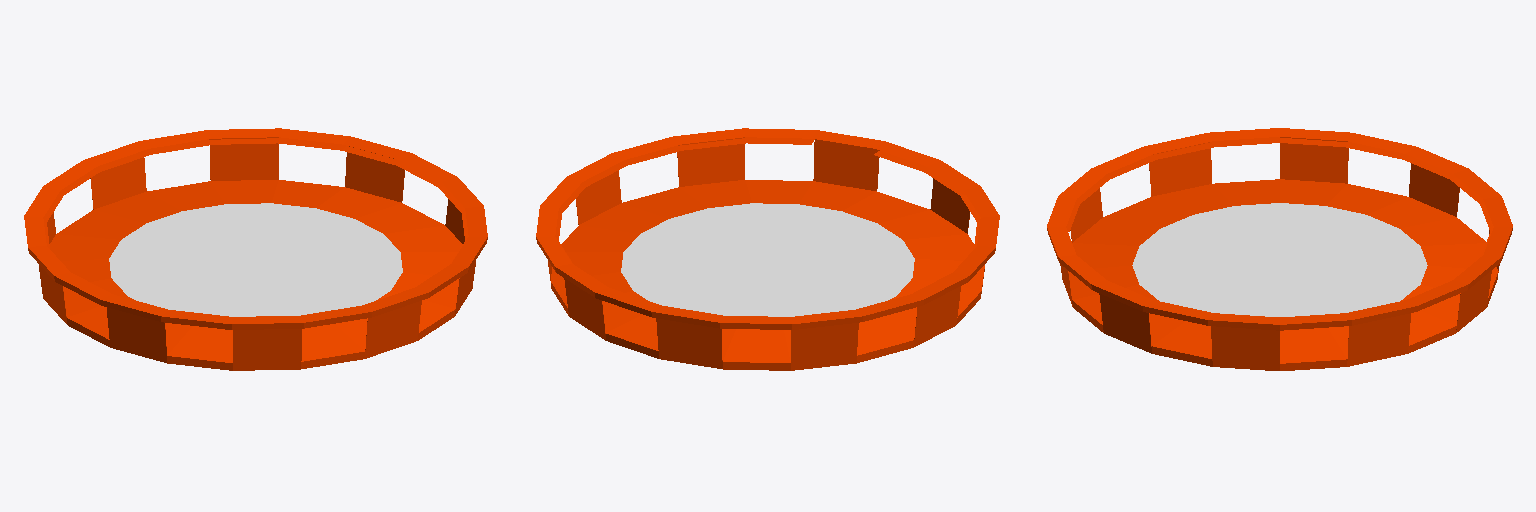
File: tesuri.obj
3 renders of one model, left to right at view 1: azimuth 30°, elevation 25°; view 2: azimuth 150°, elevation 25°; view 3: azimuth 270°, elevation 25°, orthographic.
Parts seen in each view (by area): view 1: pTorus1, pTorus2; view 2: pTorus1, pTorus2; view 3: pTorus1, pTorus2.
Part boxes in pixels (bbox=[...]): pTorus1: bbox=[39, 137, 475, 370]; pTorus2: bbox=[24, 128, 487, 329]; pTorus1: bbox=[548, 137, 984, 370]; pTorus2: bbox=[536, 128, 999, 329]; pTorus1: bbox=[1060, 137, 1499, 370]; pTorus2: bbox=[1047, 128, 1512, 330].
Bounding box in the file's own units: 1.84 × 0.2577 × 1.84.